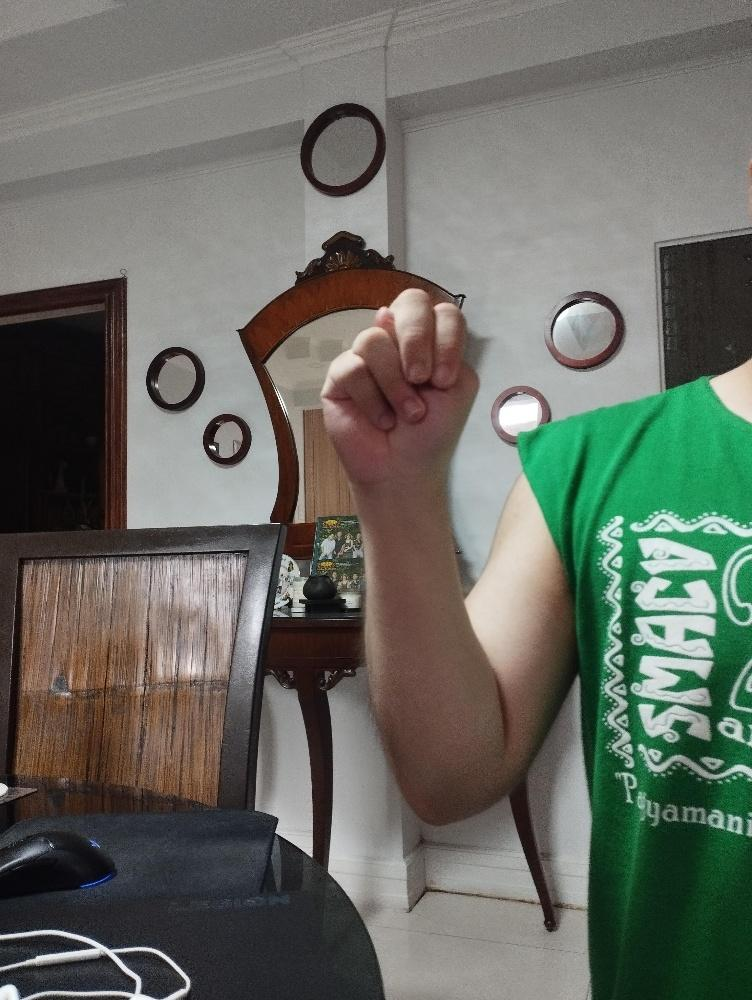n: (317, 284, 482, 495)
